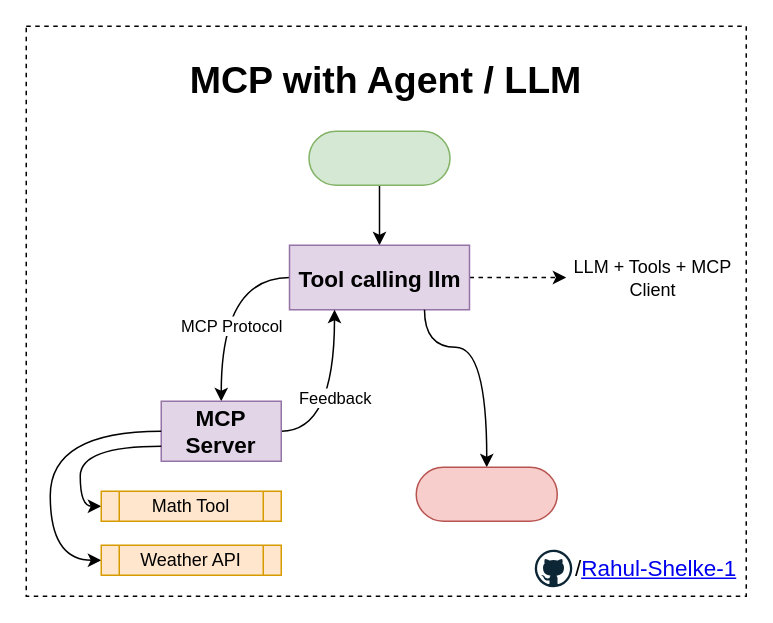
Image size: 773x623. Some labels were removed from this diagram. Each missing label, with the centre of its shape:
END: point 486,493
START: point 379,157
